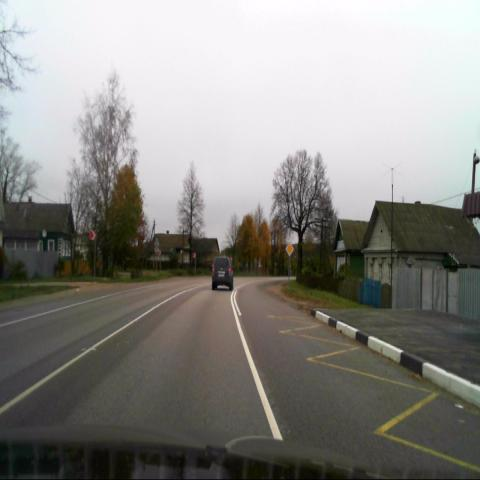2_1: (286, 243, 294, 256)
